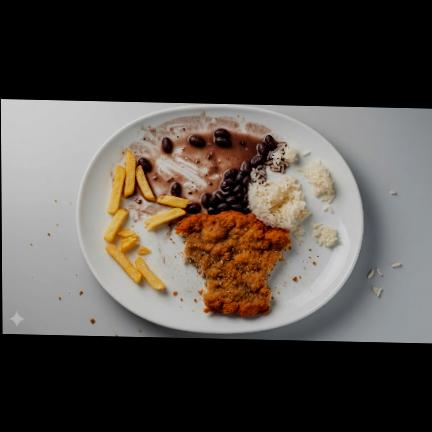beans: (202, 135, 277, 213), (213, 128, 230, 145), (139, 156, 151, 170), (189, 135, 205, 145), (186, 202, 201, 212), (171, 182, 182, 195), (162, 137, 172, 151)
chicken: (177, 210, 290, 316)
potato: (103, 149, 189, 288)
rice: (245, 165, 311, 239), (297, 160, 335, 202), (267, 144, 297, 171), (311, 221, 339, 246)
